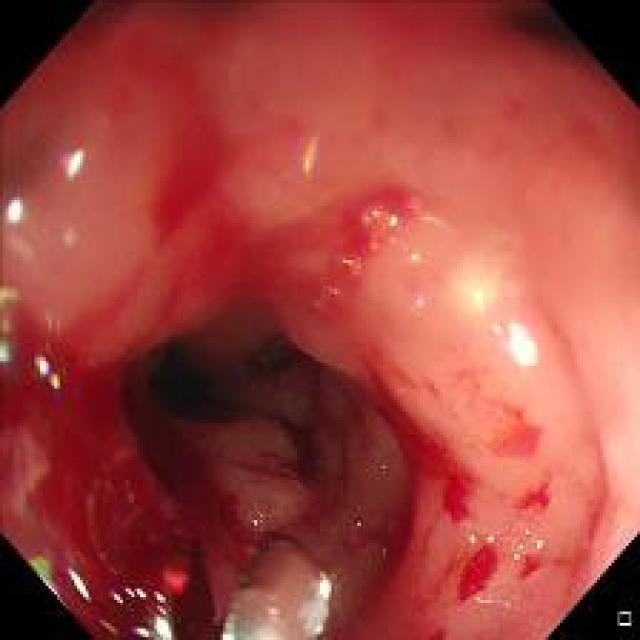blood: (6, 319, 236, 632), (135, 150, 398, 339), (301, 501, 450, 638), (365, 362, 472, 518), (280, 416, 336, 490), (451, 532, 499, 594), (492, 404, 542, 459)
color misalignment: (355, 192, 405, 252), (29, 341, 65, 396), (1, 274, 19, 371), (294, 120, 320, 178), (59, 144, 91, 188), (28, 536, 56, 581), (92, 614, 148, 635), (104, 578, 136, 611), (241, 504, 281, 530), (342, 511, 372, 540), (52, 221, 82, 248)
contrast: (138, 332, 239, 426)
saturation: (221, 571, 332, 631), (456, 270, 510, 315)
specularity: (501, 315, 545, 375), (62, 561, 96, 604), (145, 598, 180, 636), (332, 250, 365, 278), (2, 192, 28, 226), (321, 280, 348, 309), (314, 569, 335, 604), (509, 539, 524, 562), (68, 150, 82, 172), (125, 585, 145, 599), (38, 359, 48, 372), (219, 630, 234, 638), (535, 538, 542, 551), (486, 534, 495, 544), (112, 592, 120, 600), (522, 528, 531, 534), (468, 534, 475, 541)
